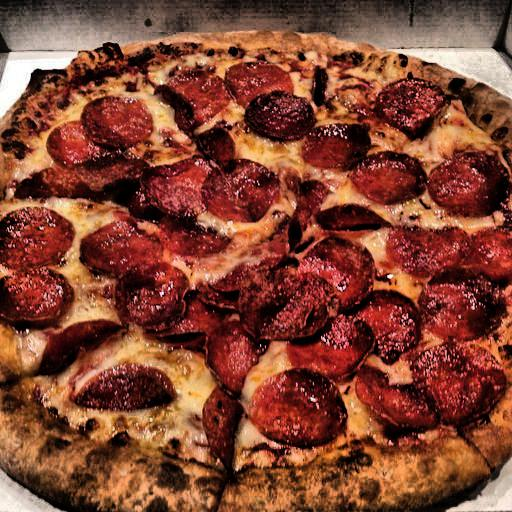pizza: (13, 37, 512, 512)
